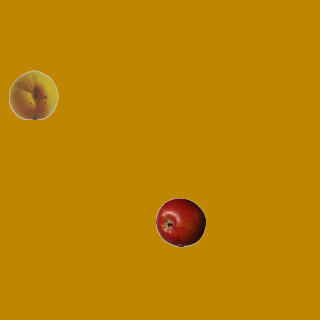Apple Braeburn: (155, 197, 205, 247)
Peach 2: (8, 69, 58, 119)
